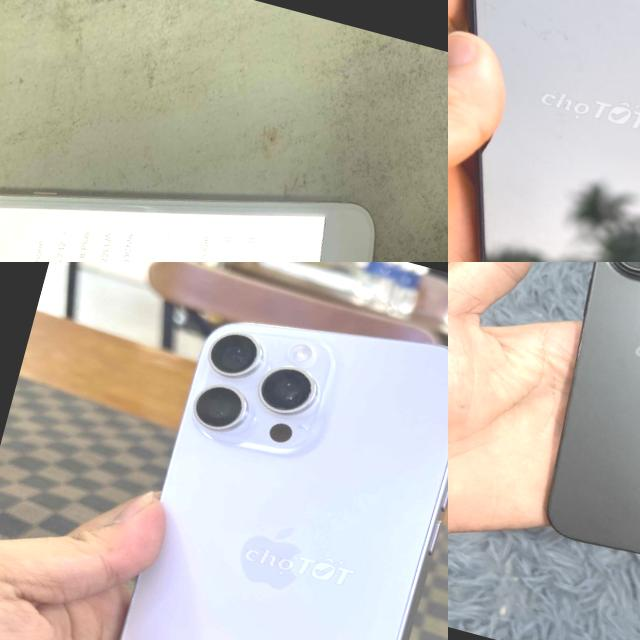gen_12_13: (448, 0, 640, 262)
gen_15: (62, 280, 448, 640), (496, 262, 640, 606)
gen_7_8: (0, 82, 426, 262)
